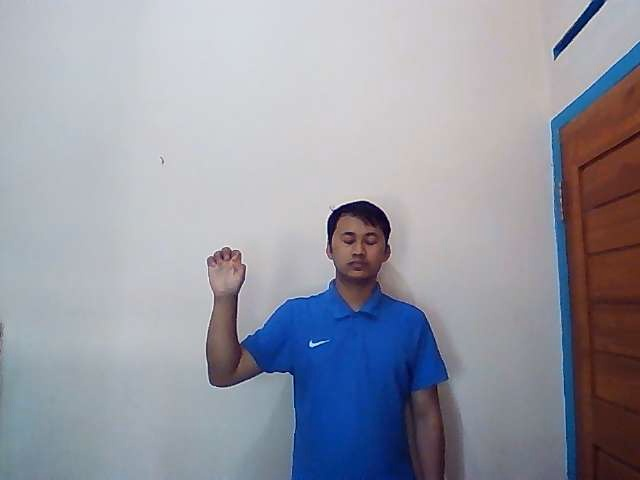E: (206, 246, 247, 297)
